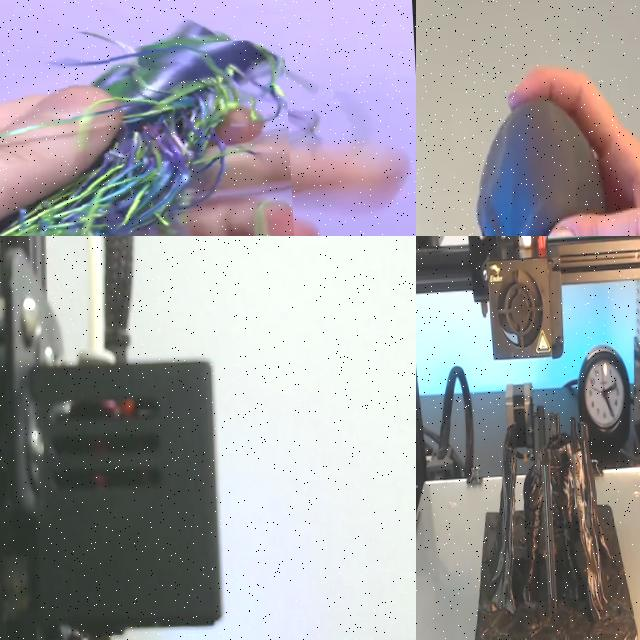spaghetti: (0, 44, 286, 236)
